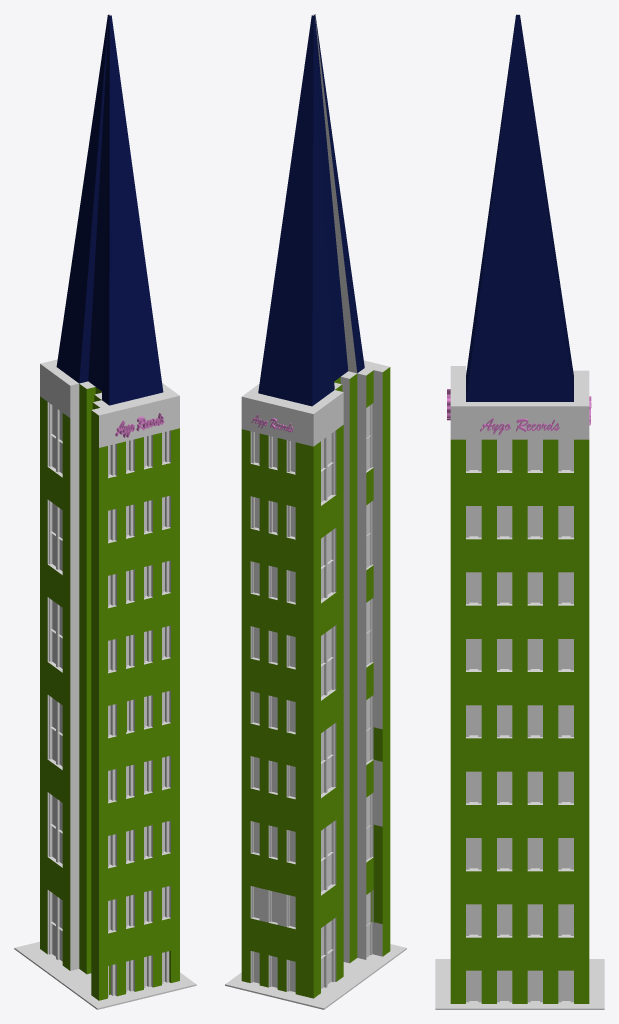
File: aygo_records.fbx
The picture shows the model from 3 angles, left to right: view 1: azimuth 30°, elevation 25°; view 2: azimuth 150°, elevation 25°; view 3: azimuth 270°, elevation 25°; orthographic projection. The views are drawn at different scales.
Parts seen in each view (by area): view 1: Cube, Text; view 2: Cube; view 3: Cube, Text.001.
Boxes of the visible parts, x1,y1,x2,y2 form: Cube: (14,14,196,1009); Text: (115,413,164,437); Cube: (225,14,406,1009); Cube: (435,14,604,1009); Text.001: (480,418,559,435).
Bounding box in the file's own units: 132 × 1211 × 191.
